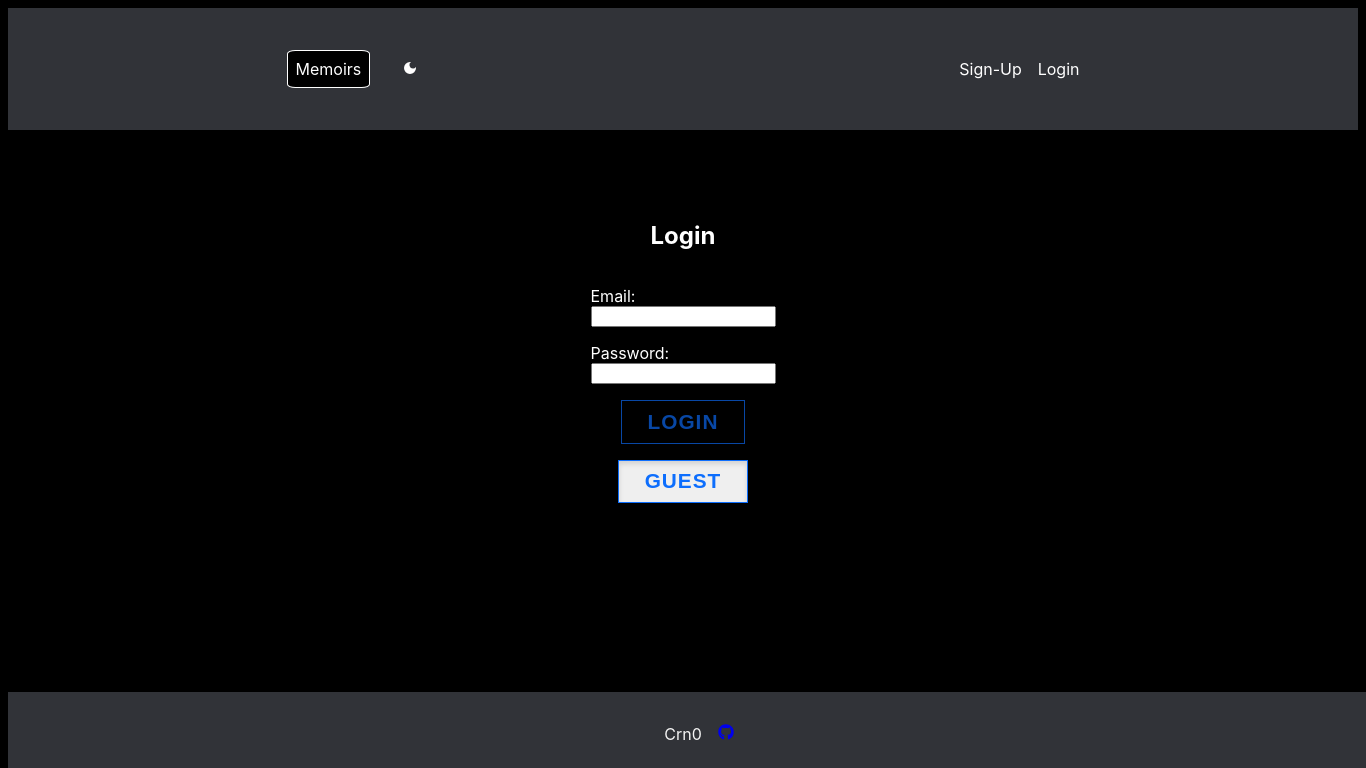
it: Login form page › renders an error message if the user send an invalid email
Type "abcd@gmail.com" into the field labelled "Email:" at (683, 317), box [590,306,776,327]
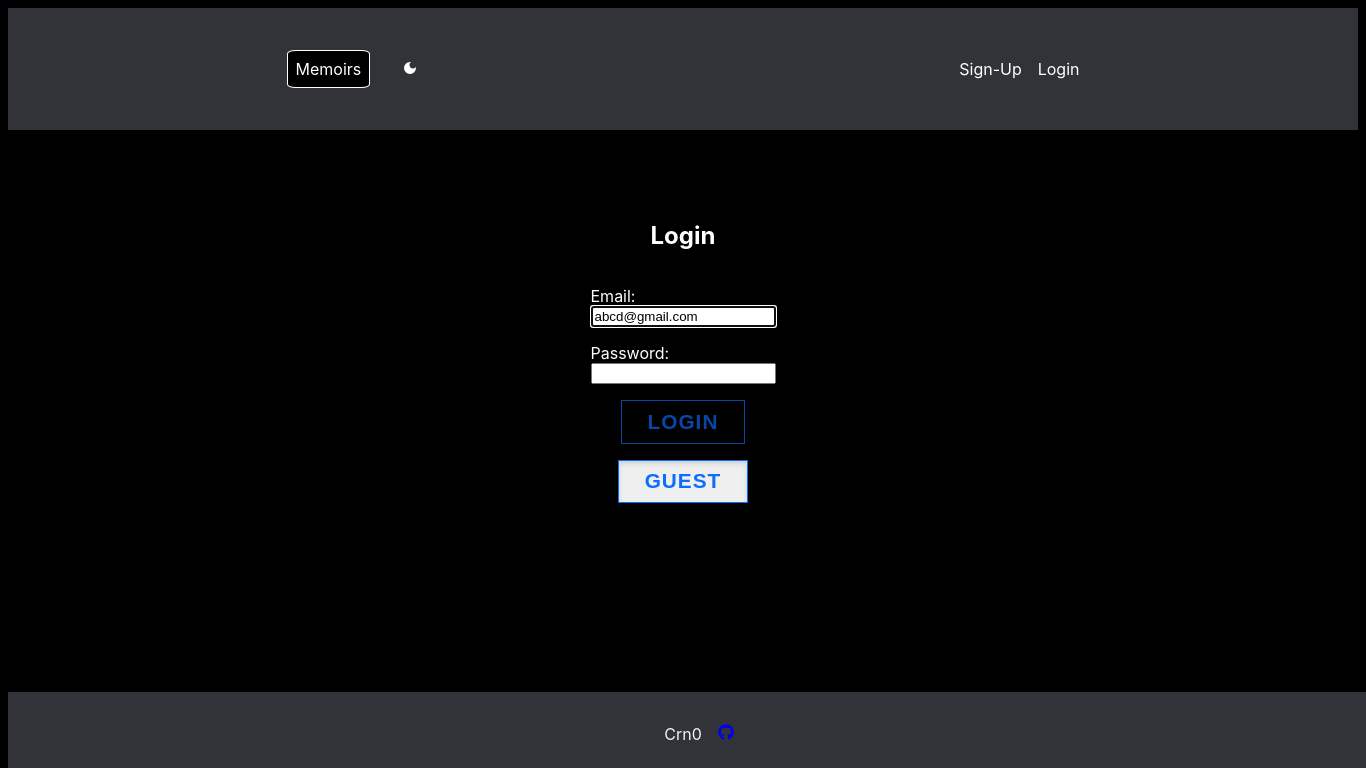
Type "1234" into the password field labelled "Password:" at (683, 374), box [590,363,776,384]
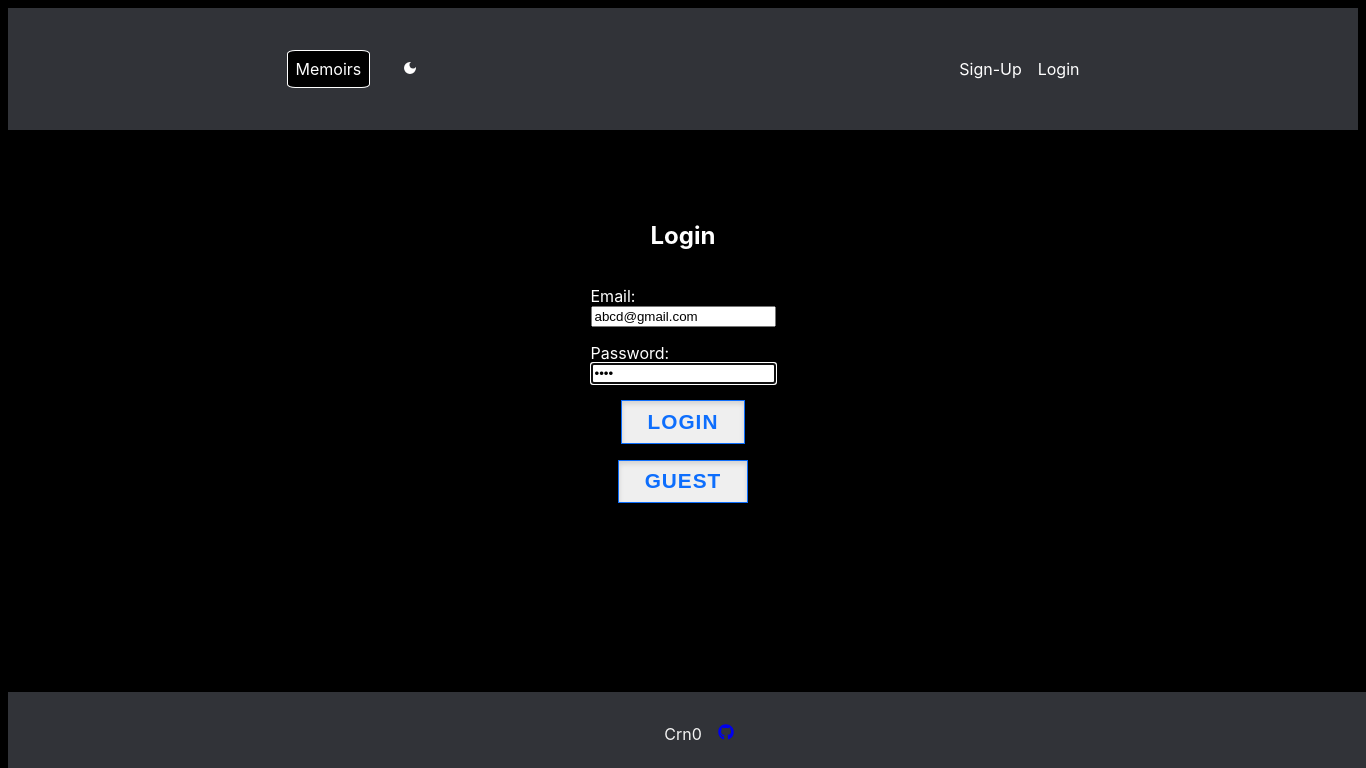
Click the button "Login" at (683, 422), box [621,400,746,444]
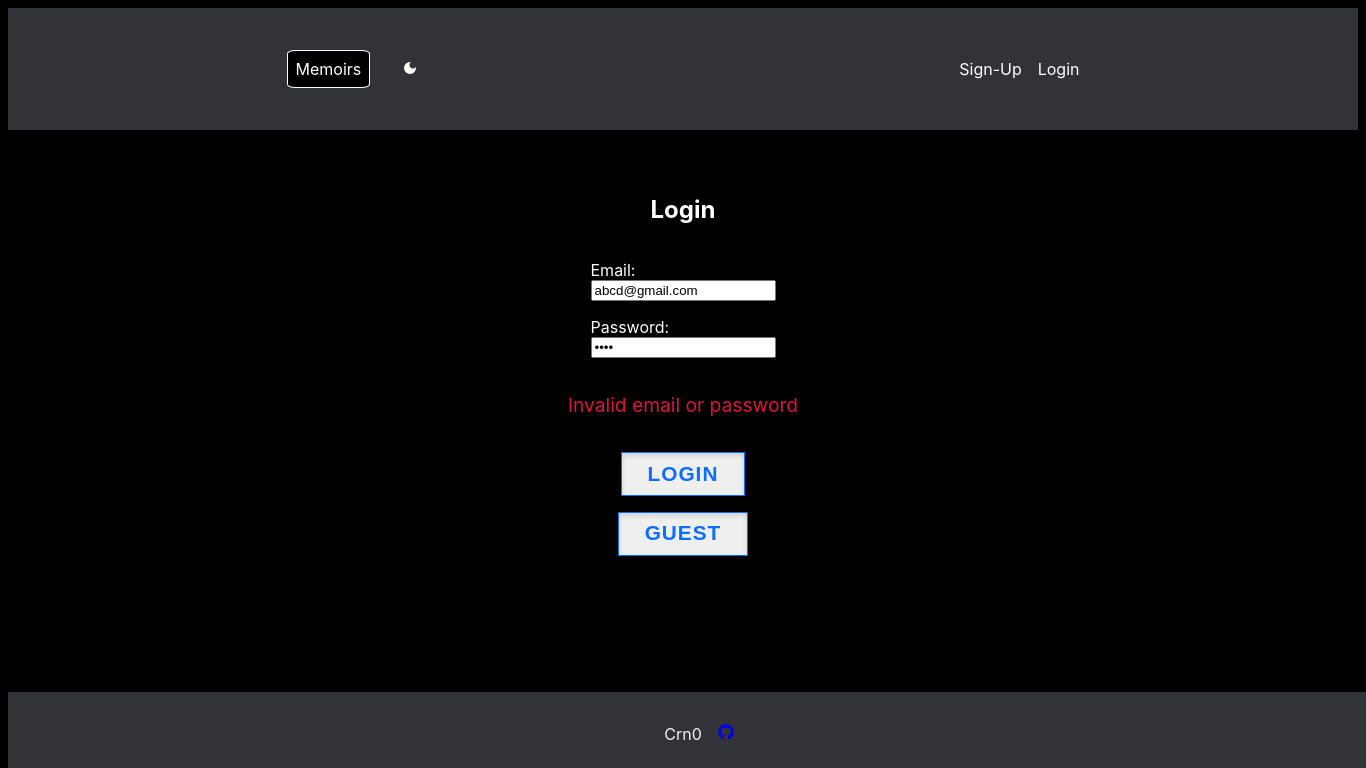
Result: the text "Invalid email or password" is shown at [568,393,798,417]
